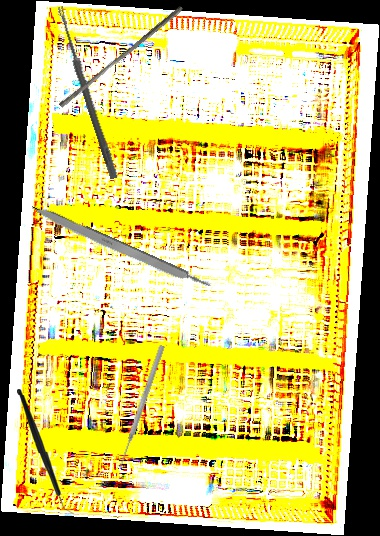Chopper: (17, 388, 75, 517)
Pusher: (58, 1, 184, 112), (116, 344, 166, 470)
Scalpel Handle: (28, 202, 214, 295)
Surgical Spoon: (54, 5, 120, 180)
